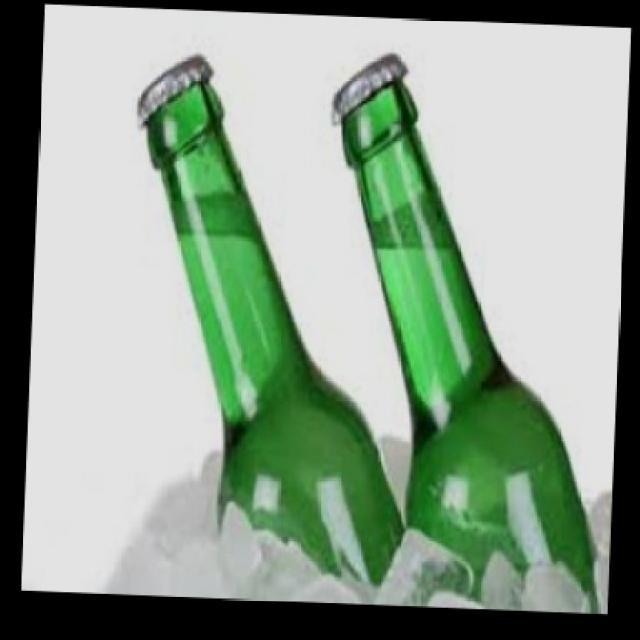Glass: (330, 51, 600, 614), (135, 54, 409, 587)
